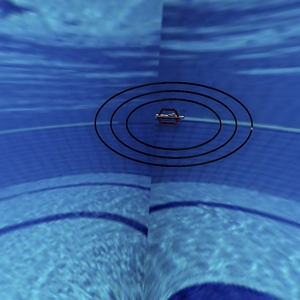circle: (81, 68, 264, 171)
submarine: (149, 94, 187, 135)
